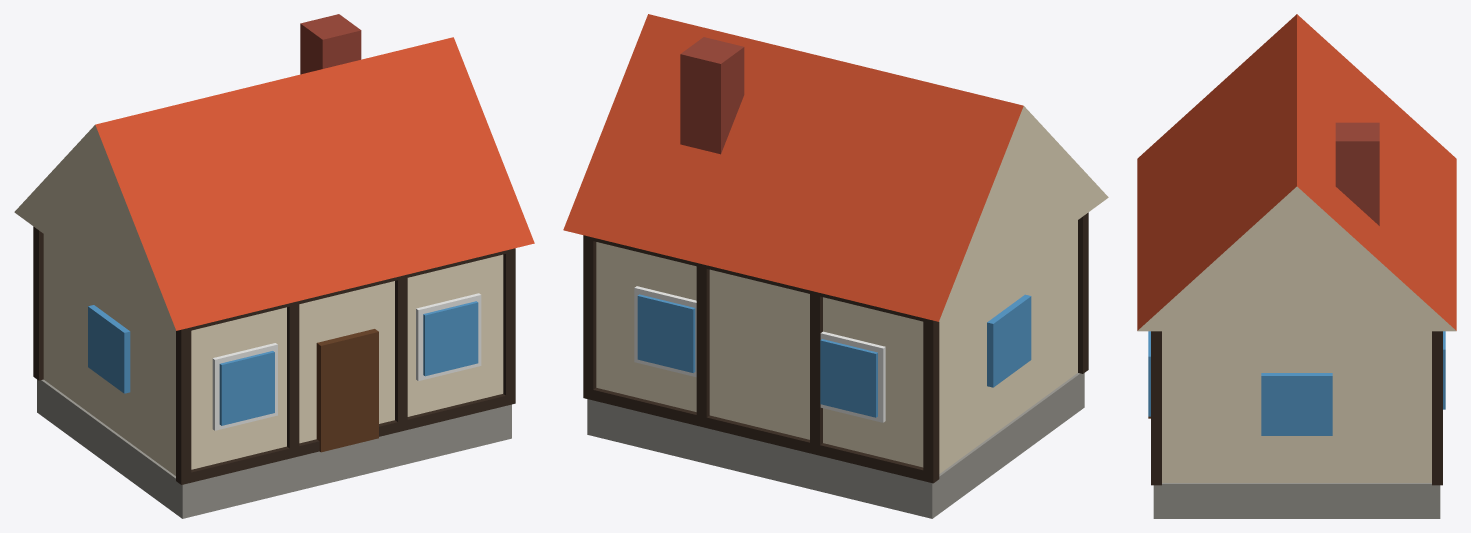
The model's file is 01_german_cottage_1.obj.
The picture shows the model from 3 angles, left to right: view 1: azimuth 30°, elevation 25°; view 2: azimuth 150°, elevation 25°; view 3: azimuth 270°, elevation 25°; orthographic projection. The views are drawn at different scales.
Parts seen in each view (by area): view 1: 01_german_cottage_1; view 2: 01_german_cottage_1; view 3: 01_german_cottage_1.
Boxes of the visible parts, x1,y1,x2,y2 form: 01_german_cottage_1: (14,14,534,518); 01_german_cottage_1: (563,14,1108,518); 01_german_cottage_1: (1137,14,1456,518).
Bounding box in the file's own units: 1.48 × 1.4 × 1.16.
